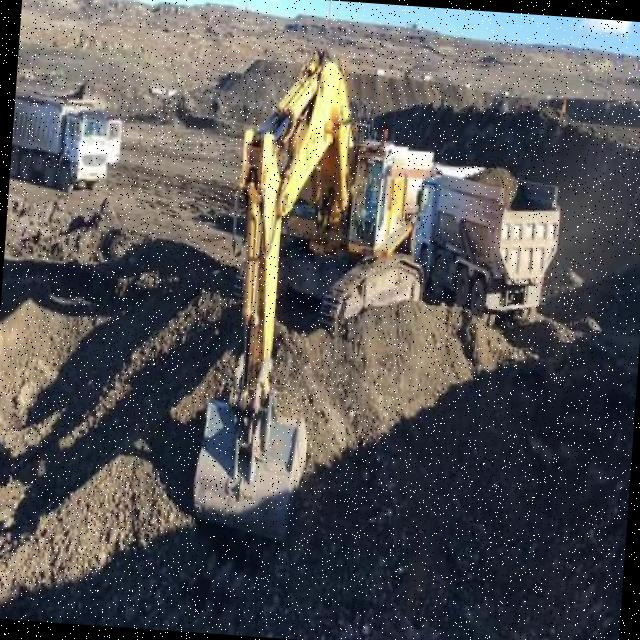Dump Truck: (411, 161, 559, 323), (8, 82, 124, 198)
Excavator: (188, 41, 440, 548)
